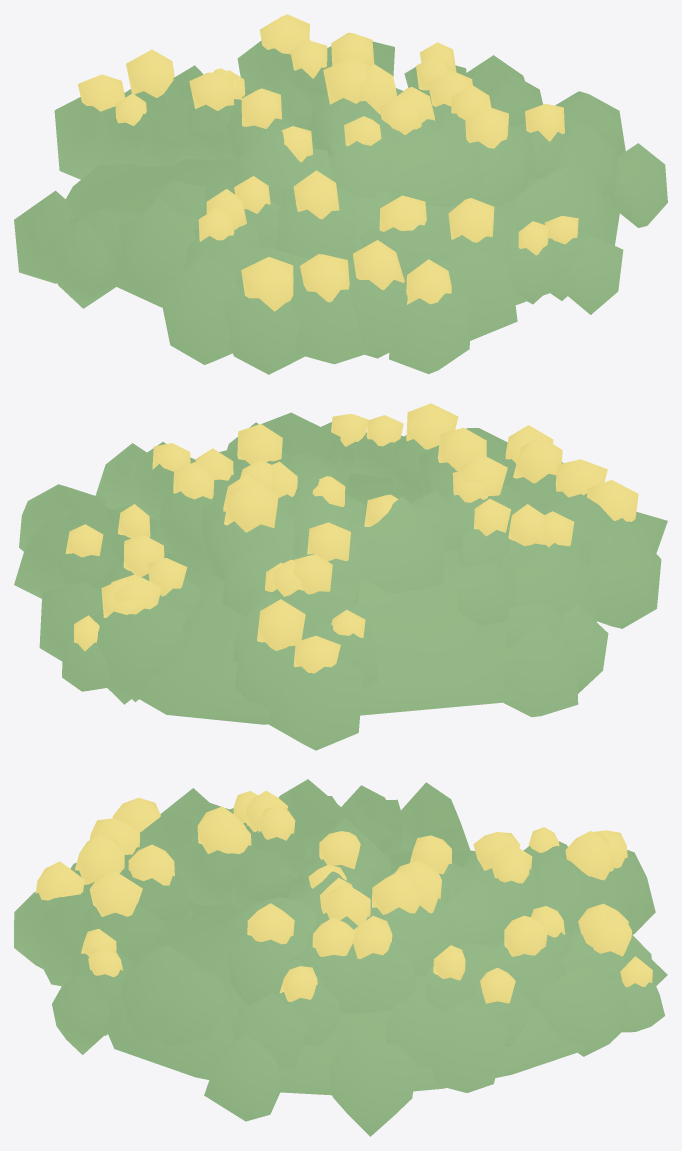
File: Blender_Heather_1.glb
3 views of the same model, one above another, from view 1: azimuth 30°, elevation 25°; view 2: azimuth 150°, elevation 25°; view 3: azimuth 270°, elevation 25° (orthographic).
Parts seen in each view (by area): view 1: Blender_Heather_1; view 2: Blender_Heather_1; view 3: Blender_Heather_1.
Part boxes in pixels (box(x1,y1,x2,y2)): Blender_Heather_1: box(14, 14, 667, 374); Blender_Heather_1: box(14, 403, 667, 750); Blender_Heather_1: box(14, 779, 667, 1136).
Size of the model in its own units: 1.81 by 0.5046 by 1.76.
